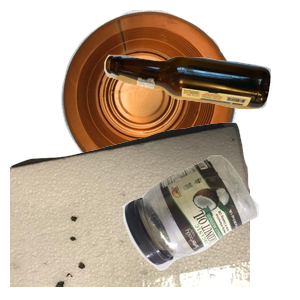glass: (101, 52, 300, 154)
metal: (58, 10, 289, 186)
plastic: (120, 152, 300, 300)
trash: (10, 120, 250, 300)
